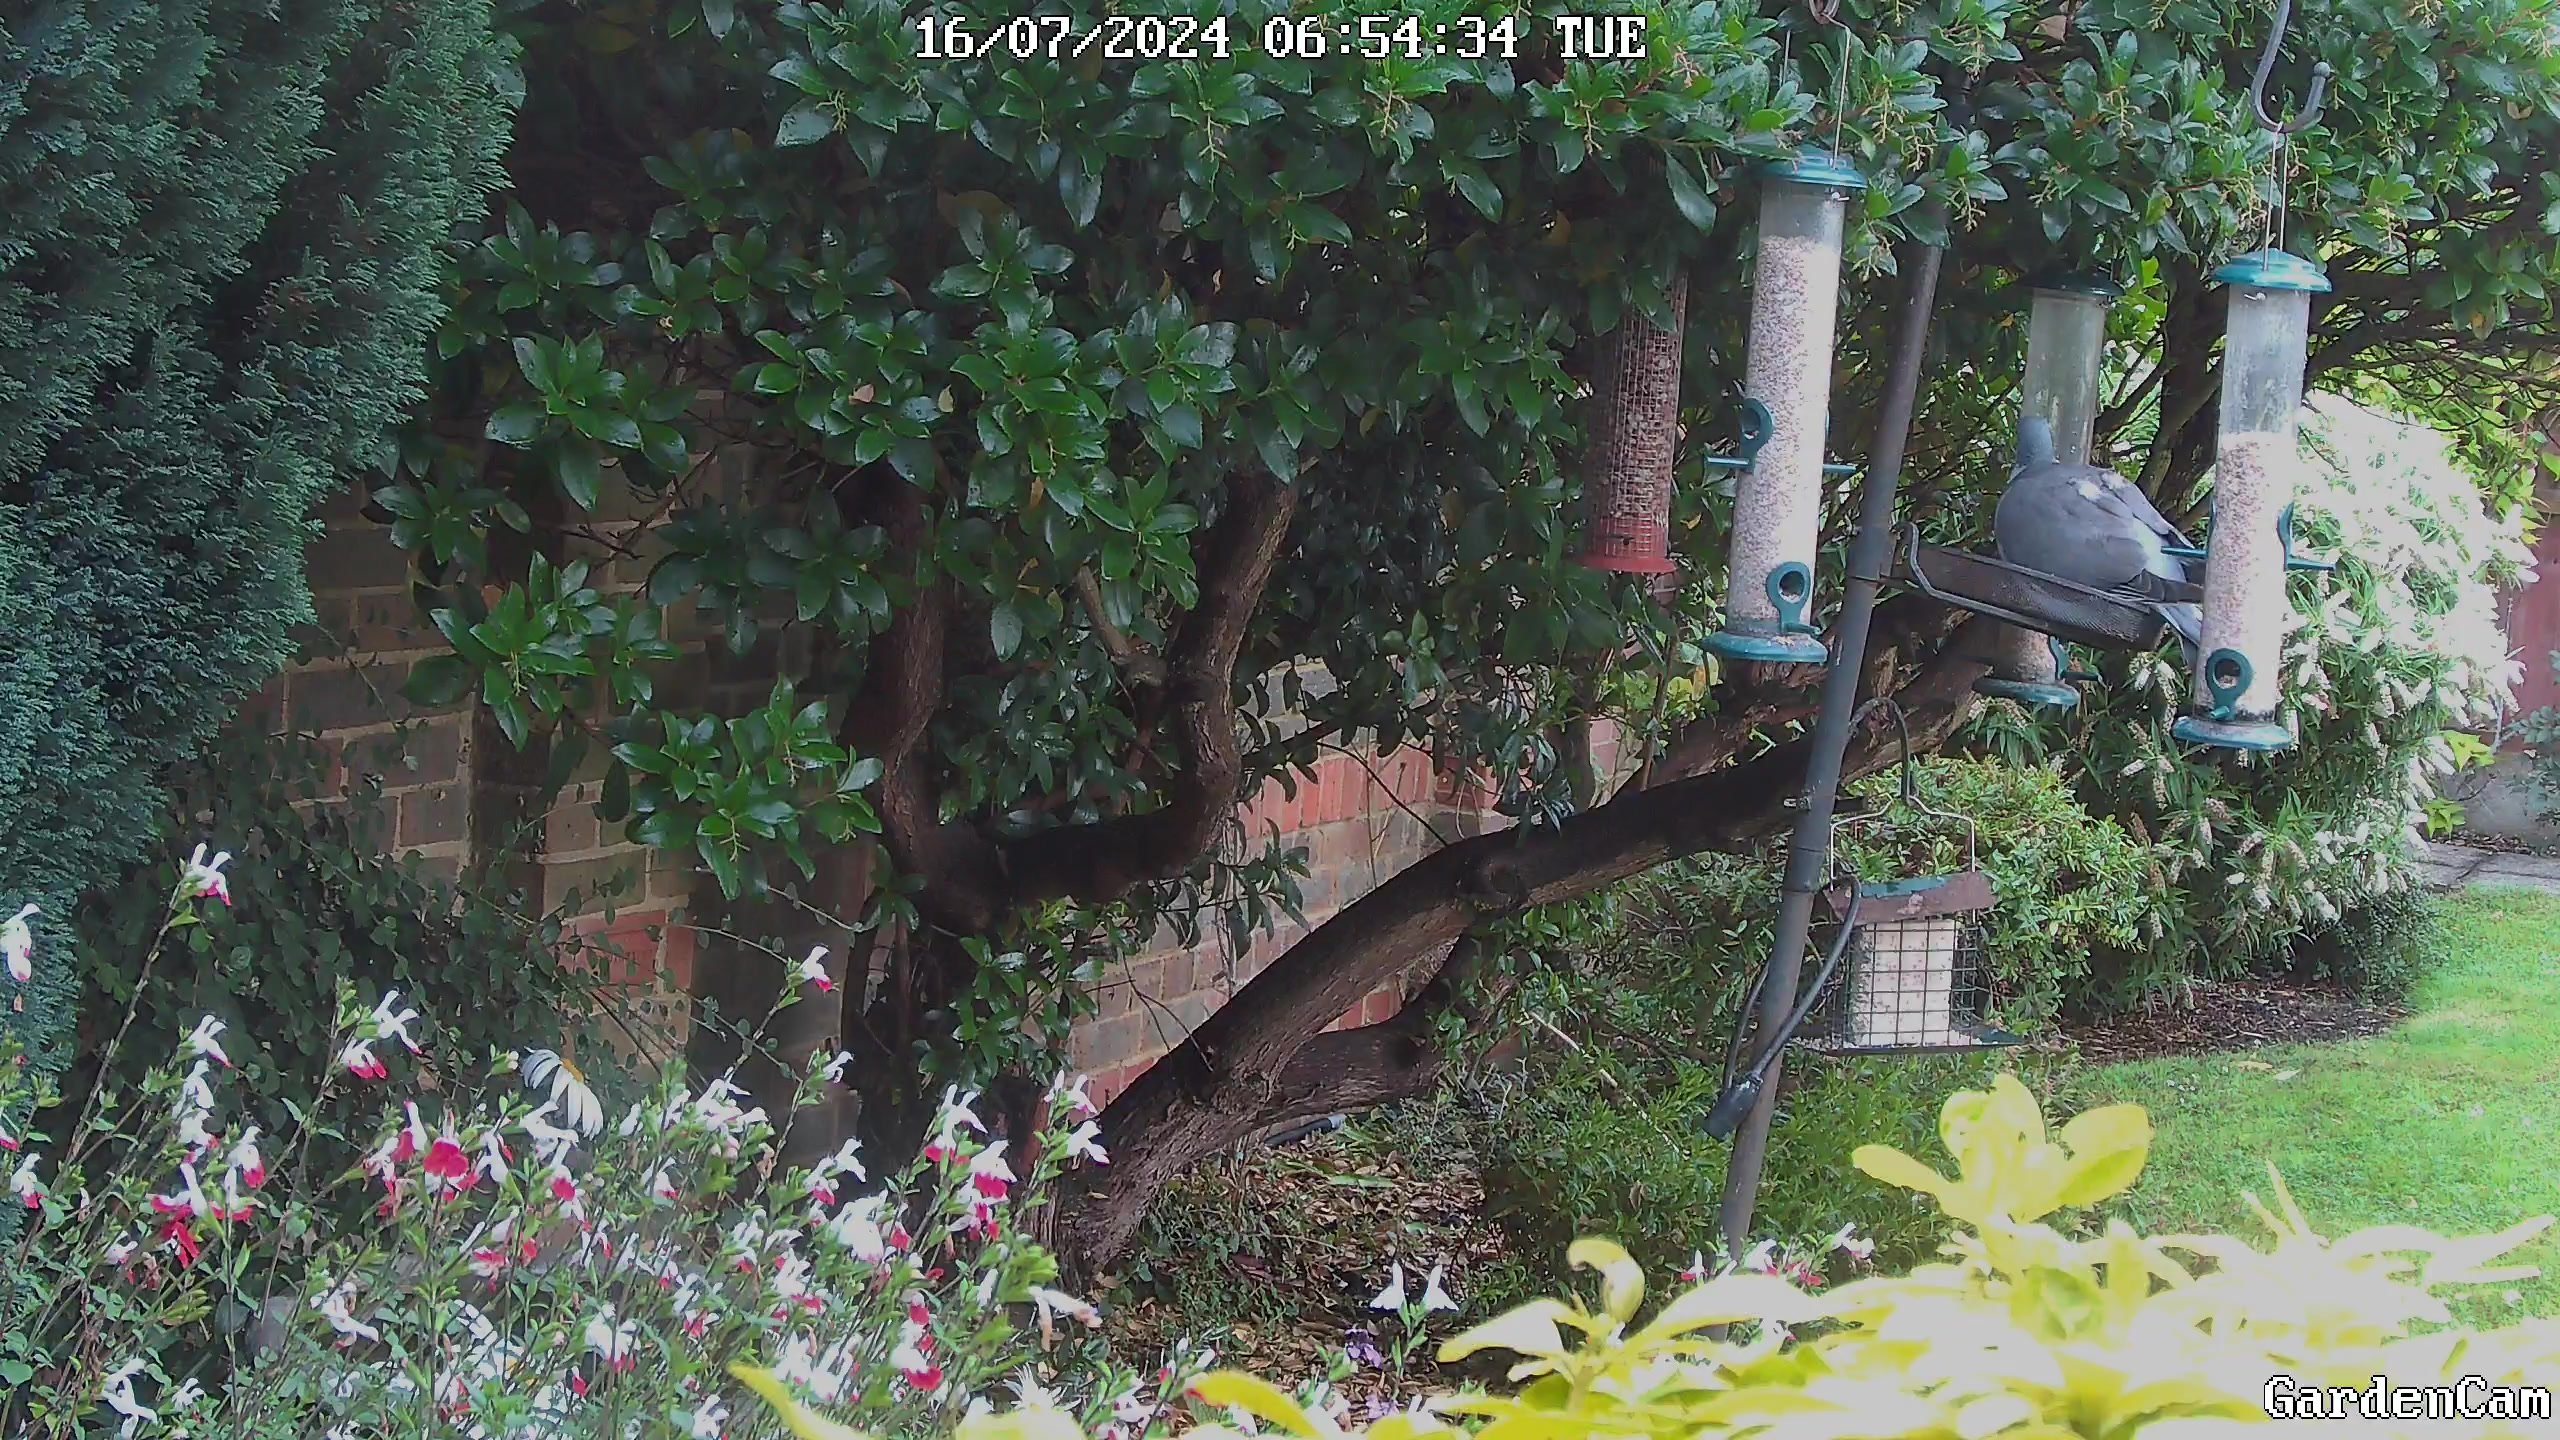Wood_Pigeon: (1955, 397, 2251, 677)
